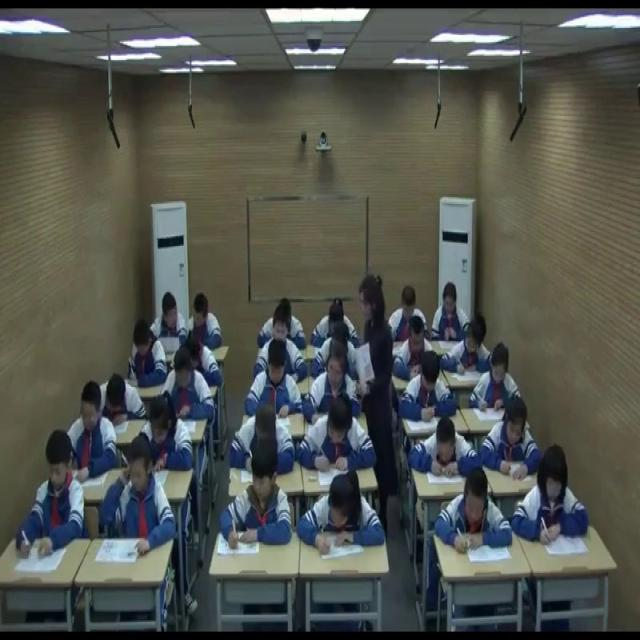distracted: (147, 293, 192, 356), (183, 287, 221, 351)
focused: (104, 433, 179, 558), (19, 430, 88, 556), (298, 472, 388, 568), (219, 447, 295, 560), (436, 467, 516, 566), (518, 444, 590, 550), (296, 398, 374, 478), (66, 378, 123, 486), (485, 392, 545, 486), (227, 400, 296, 477), (254, 303, 309, 385), (246, 337, 304, 414), (307, 346, 363, 424), (414, 418, 479, 484), (162, 343, 216, 421), (141, 388, 192, 470), (403, 355, 458, 429), (440, 313, 498, 380), (473, 342, 524, 410), (312, 320, 367, 379), (95, 366, 144, 431), (392, 318, 439, 376), (431, 282, 474, 344), (258, 297, 306, 350), (130, 324, 168, 389), (309, 298, 355, 349), (177, 338, 223, 388), (390, 287, 428, 345)
